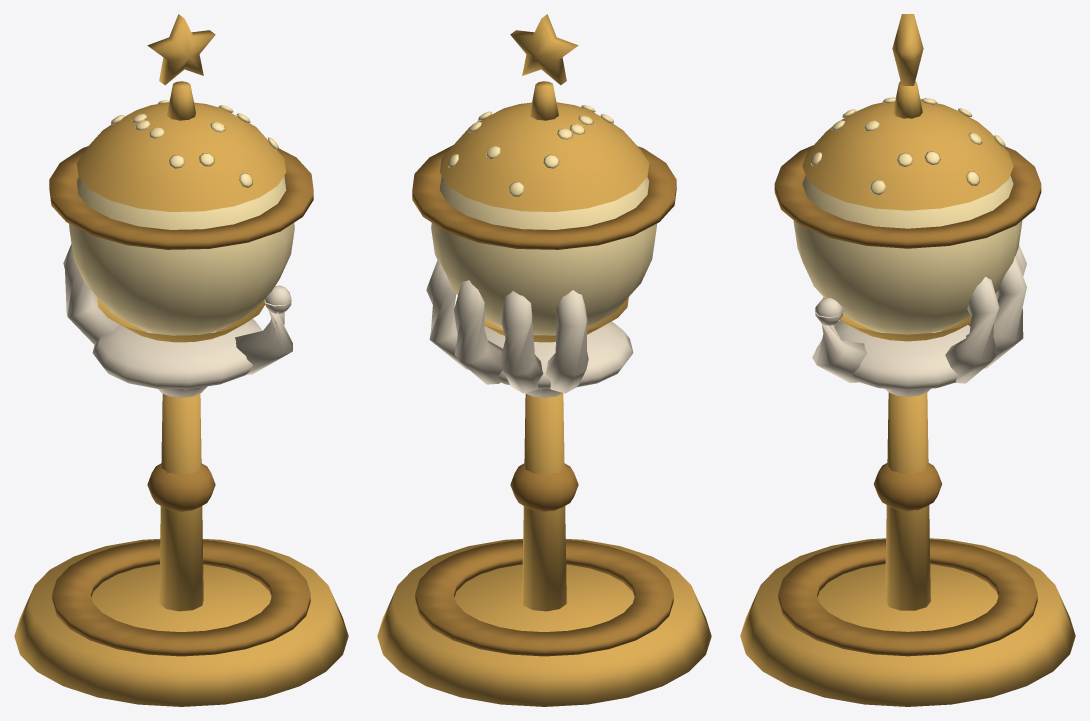
File: fortune-lamp.glb
The picture shows the model from 3 angles, left to right: view 1: azimuth 30°, elevation 25°; view 2: azimuth 150°, elevation 25°; view 3: azimuth 270°, elevation 25°; orthographic projection.
Parts seen in each view (by area): view 1: lamp; view 2: lamp; view 3: lamp.
Part boxes in pixels (left/top/right/bottom): lamp: left=14, top=14, right=348, bottom=706; lamp: left=377, top=14, right=711, bottom=706; lamp: left=740, top=14, right=1075, bottom=706.
Bounding box in the file's own units: 0.44 × 0.9 × 0.44.
